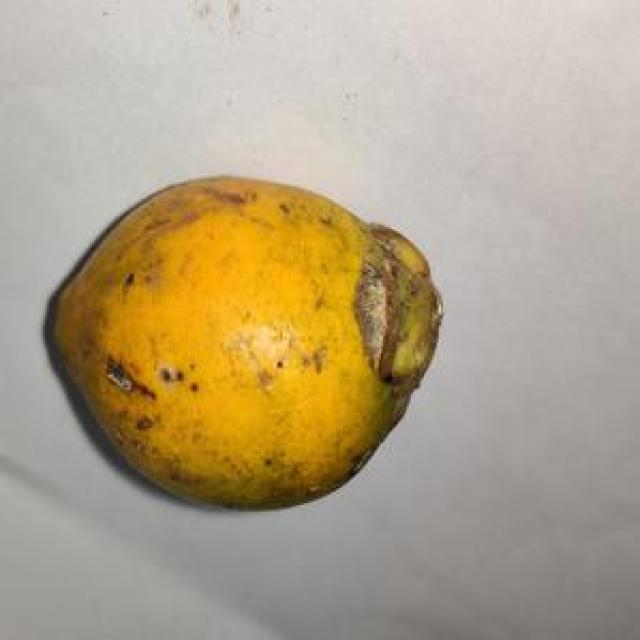good: (47, 178, 441, 507)
